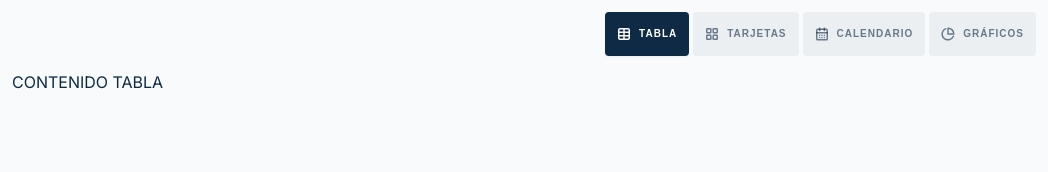
Test: ArchonAdaptiveView (FC 041 Fase A) › exercises all four views of the closed domain
The image size is (1048, 172).
Click the button with test id "adaptive-view-cards".
click(746, 34)  # box 693,12 -> 798,56
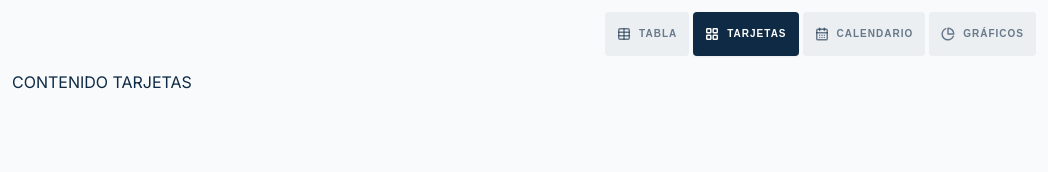
Result: the text "CONTENIDO TARJETAS" is shown at 12,72 -> 192,92
Click the button with test id "adaptive-view-calendar".
click(864, 34)  # box 802,12 -> 925,56
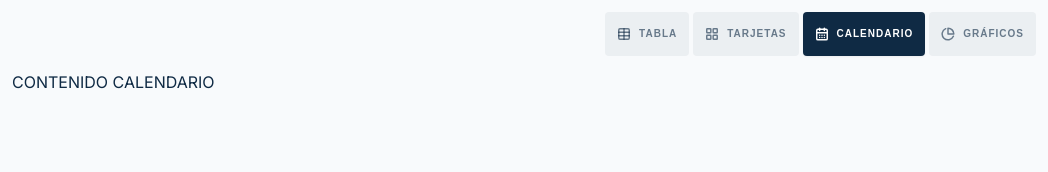
Result: the text "CONTENIDO CALENDARIO" is shown at 12,72 -> 215,92
Click the button with test id "adaptive-view-charts".
click(983, 34)  # box 929,12 -> 1036,56
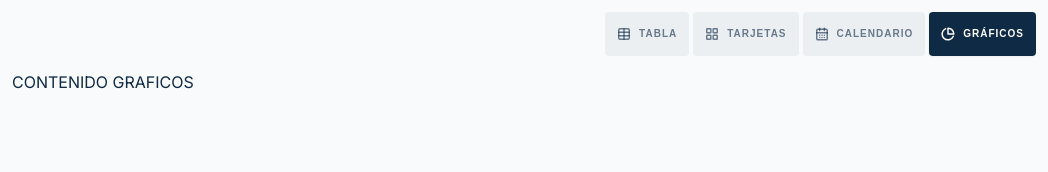
Result: the text "CONTENIDO GRAFICOS" is shown at 12,72 -> 194,92
Click the button with test id "adaptive-view-table".
click(647, 34)  # box 605,12 -> 689,56
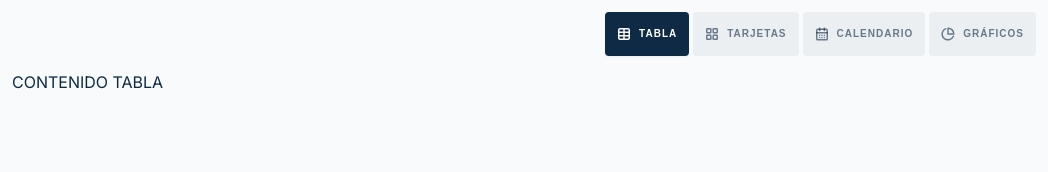
Result: the text "CONTENIDO TABLA" is shown at 12,72 -> 163,92
